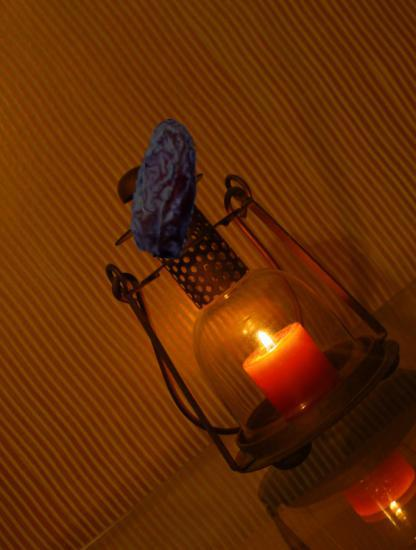Dates: (96, 119, 235, 258)
